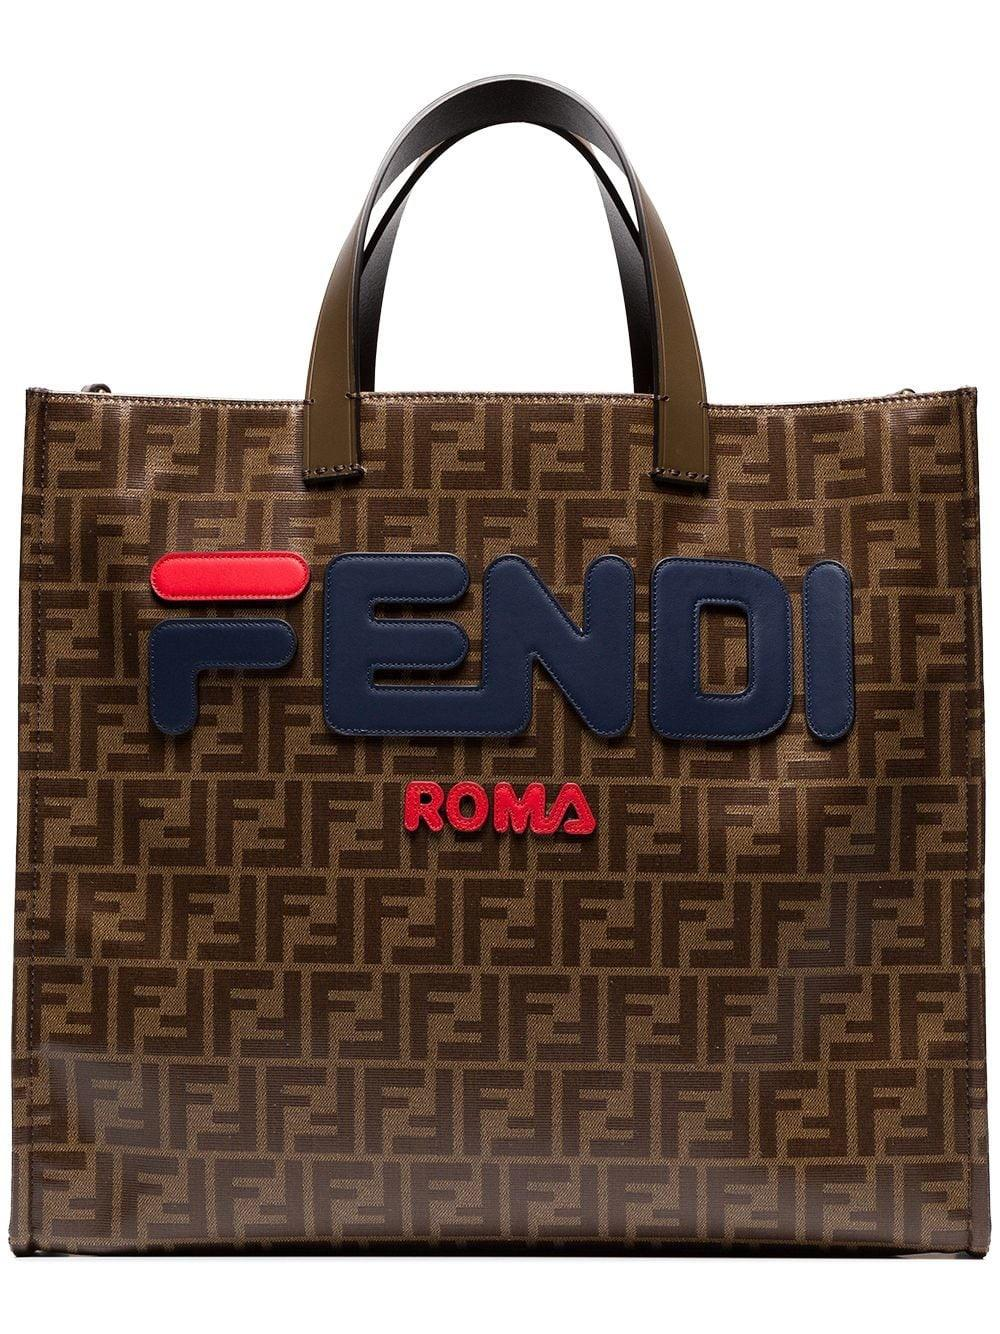FENDI: (147, 550, 854, 743)
